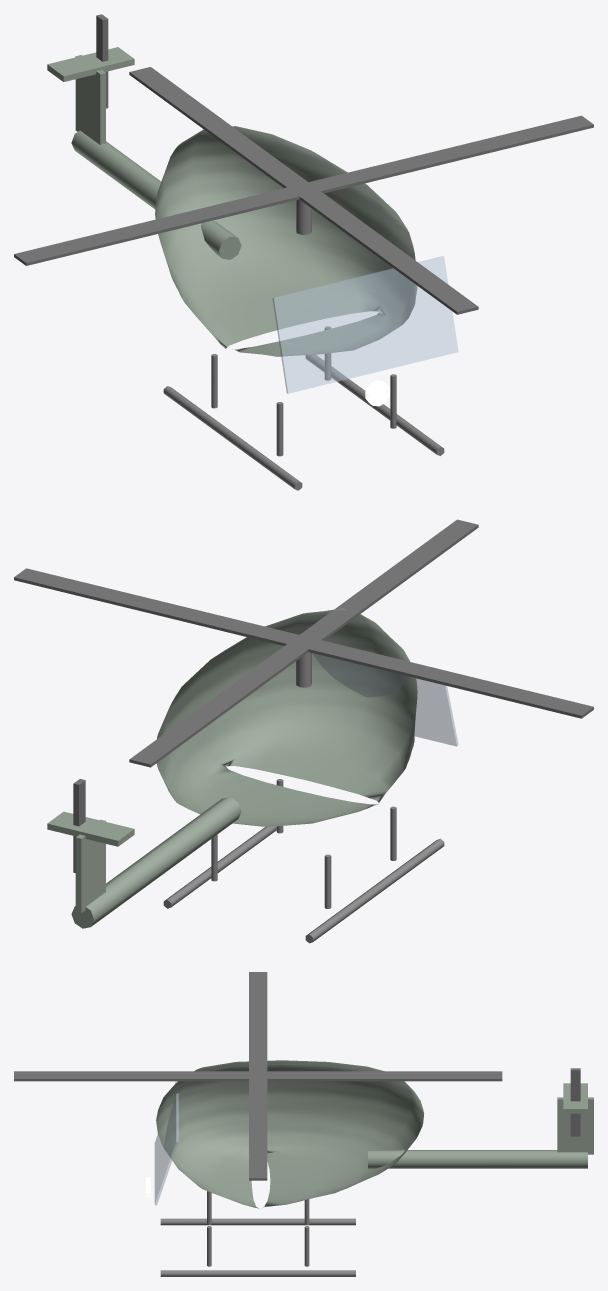
File: helicopter.glb
3 renders of one model, top to bottom at view 1: azimuth 30°, elevation 25°; view 2: azimuth 150°, elevation 25°; view 3: azimuth 270°, elevation 25°, orthographic. The views are drawn at different scales.
Parts seen in each view (by area): view 1: HelicopterBody, windshield, main_rotor_blade_1, main_rotor_blade_2, tail_boom, tail_fin_v, skid_left, tail_fin_h, skid_right, tail_rotor; view 2: HelicopterBody, main_rotor_blade_1, main_rotor_blade_2, tail_boom, windshield, tail_fin_v, skid_left, tail_fin_h, skid_right, tail_rotor; view 3: HelicopterBody, main_rotor_blade_2, tail_boom, main_rotor_blade_1, skid_left, tail_fin_v, windshield, skid_right, tail_rotor, tail_fin_h.
Boxes of the visible parts, x1,y1,x2,y2 form: HelicopterBody: (155,126,417,356); windshield: (272,256,458,393); main_rotor_blade_1: (14,115,593,265); main_rotor_blade_2: (129,67,478,314); tail_boom: (71,130,241,259); tail_fin_v: (75,55,105,144); skid_left: (163,386,302,490); tail_fin_h: (47,47,134,81); skid_right: (305,354,444,455); tail_rotor: (96,14,108,108); HelicopterBody: (156,608,417,826); main_rotor_blade_1: (14,568,593,718); main_rotor_blade_2: (129,519,478,767); tail_boom: (71,797,241,928); windshield: (312,653,458,746); tail_fin_v: (75,819,105,912); skid_left: (305,838,444,943); tail_fin_h: (47,811,134,846); skid_right: (163,826,276,908); tail_rotor: (73,779,85,872); HelicopterBody: (156,1060,424,1208); main_rotor_blade_2: (14,1071,502,1081); tail_boom: (368,1150,587,1168); main_rotor_blade_1: (249,972,267,1180); skid_left: (160,1218,355,1225); tail_fin_v: (557,1097,593,1154); windshield: (154,1081,178,1205); skid_right: (160,1270,355,1276); tail_rotor: (570,1068,580,1136); tail_fin_h: (563,1083,587,1113).
Bounding box in the file's own units: 4 × 1.68 × 4.75.
